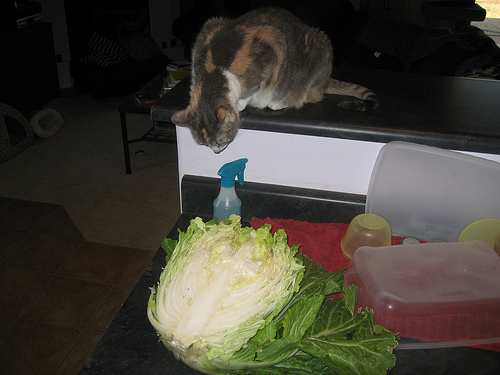cabbage: (144, 214, 399, 373)
